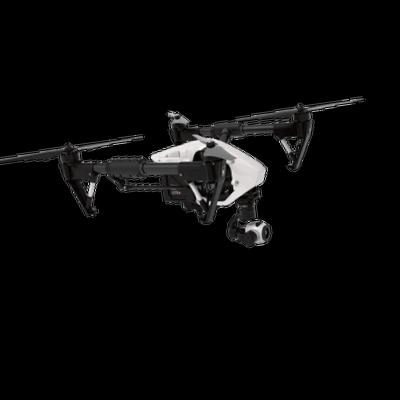drone: (0, 84, 380, 276)
